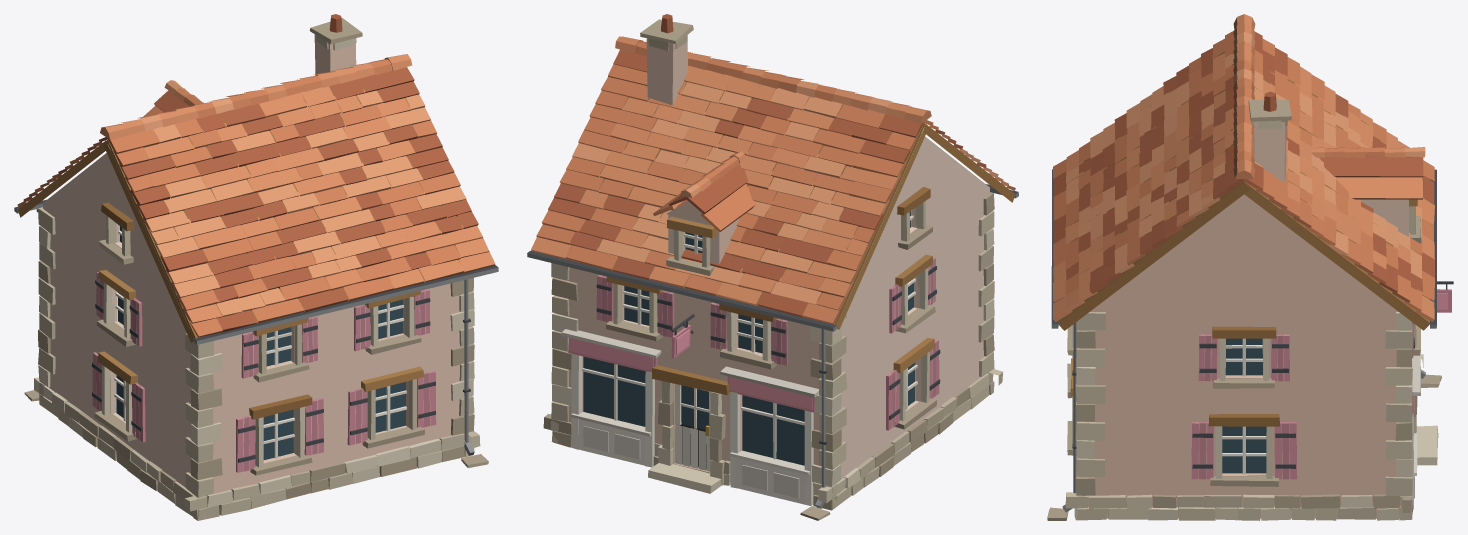
Rendered from mercerie.glb.
The picture shows the model from 3 angles, left to right: view 1: azimuth 30°, elevation 25°; view 2: azimuth 150°, elevation 25°; view 3: azimuth 270°, elevation 25°; orthographic projection. The views are drawn at different scales.
Parts seen in each view (by area): view 1: mercerie; view 2: mercerie; view 3: mercerie.
Boxes of the visible parts, x1,y1,x2,y2 form: mercerie: (14,14,498,520); mercerie: (527,14,1018,520); mercerie: (1047,14,1453,520).
Bounding box in the file's own units: 7.84 × 9.45 × 8.64.
